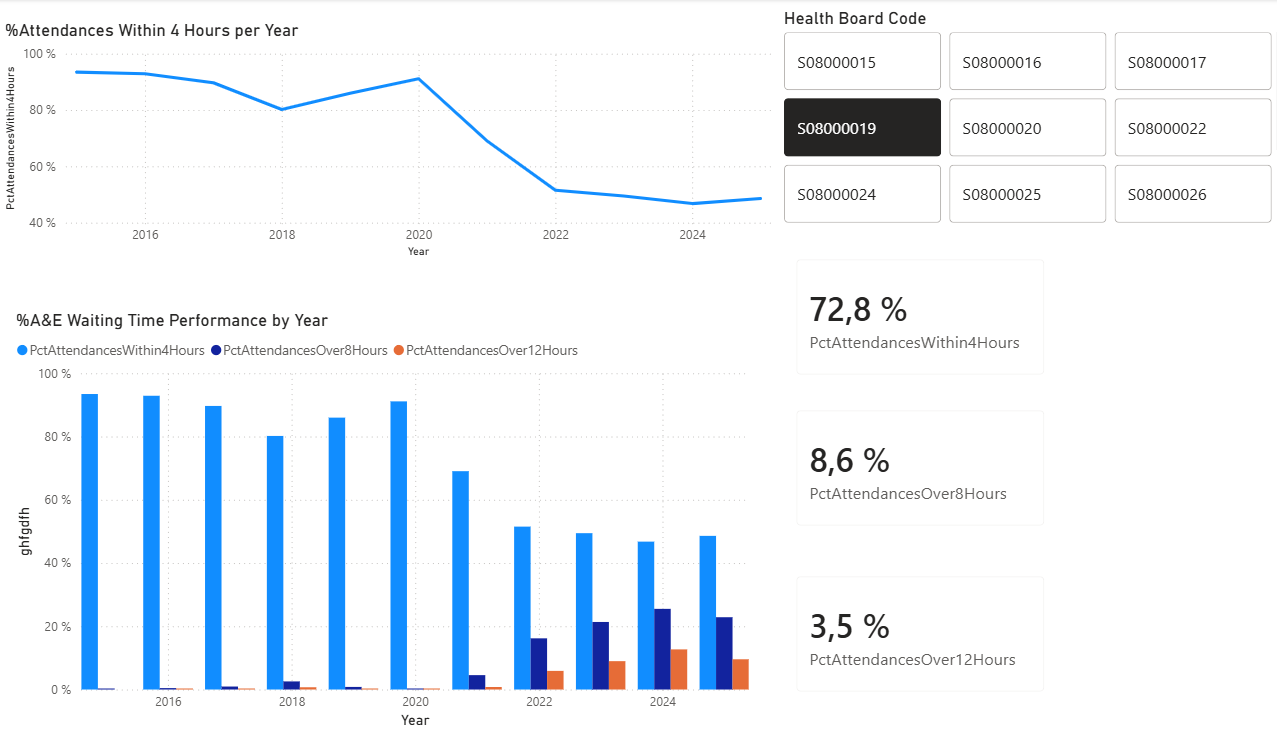

The page's visual inventory and layout, read from the dashboard file:
{"tool":"powerbi","page":{"name":"Página 1","canvas":[1280,720],"ordinal":0},"visuals":[{"type":"lineChart","title":"%Attendances Within 4 Hours per Year","fields":{"Y":["DimDate.PctAttendancesWithin4Hours"],"Category":["DimDate.Year"]},"box":[0,20.7,763.5,237.6],"z":0},{"type":"clusteredColumnChart","title":"%A&E Waiting Time Performance by Year","fields":{"Y":["DimDate.PctAttendancesWithin4Hours","DimDate.PctAttendancesOver8Hours","DimDate.PctAttendancesOver12Hours"],"Category":["DimDate.Year"]},"box":[10.3,304.8,728.3,415.3],"z":1000},{"type":"cardVisual","fields":{"Data":["DimDate.PctAttendancesWithin4Hours"]},"box":[763.4,238.5,277,147.9],"z":2000},{"type":"cardVisual","fields":{"Data":["DimDate.PctAttendancesOver12Hours"]},"box":[763.4,548.9,277,147.9],"z":3000},{"type":"cardVisual","fields":{"Data":["DimDate.PctAttendancesOver8Hours"]},"box":[763.4,386.4,277,147.9],"z":4000},{"type":"advancedSlicerVisual","title":"Health Board Code","fields":{"Values":["weekly_ae_activity_20251019.HealthBoardCode"]},"box":[763.4,8.3,502,217.7],"z":5000}]}

Visuals, with their boxes in screenshot pixels (x1, y1, x2, y2), scaled from the page's 1280x720 canvas onto the 1277x731 screenshot:
"%Attendances Within 4 Hours per Year" lineChart: Rect(0, 21, 762, 262)
"%A&E Waiting Time Performance by Year" clusteredColumnChart: Rect(10, 309, 737, 730)
cardVisual - DimDate.PctAttendancesWithin4Hours: Rect(762, 242, 1038, 392)
cardVisual - DimDate.PctAttendancesOver12Hours: Rect(762, 557, 1038, 707)
cardVisual - DimDate.PctAttendancesOver8Hours: Rect(762, 392, 1038, 542)
"Health Board Code" advancedSlicerVisual: Rect(762, 8, 1262, 229)
